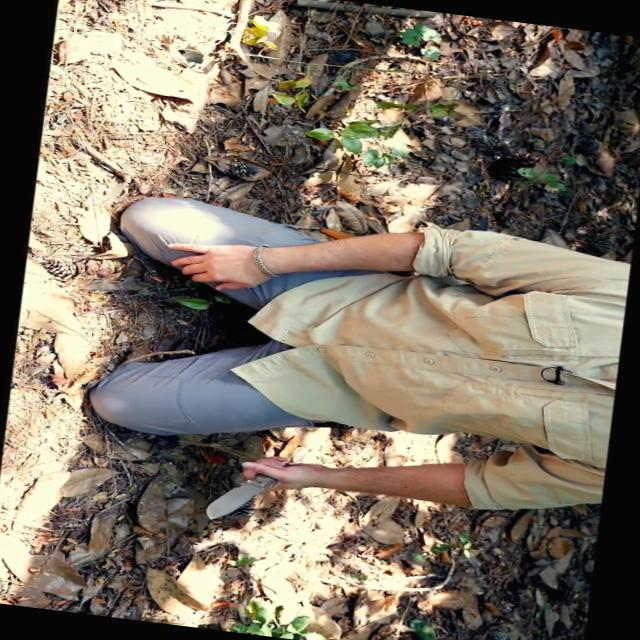knife: (187, 443, 296, 538)
